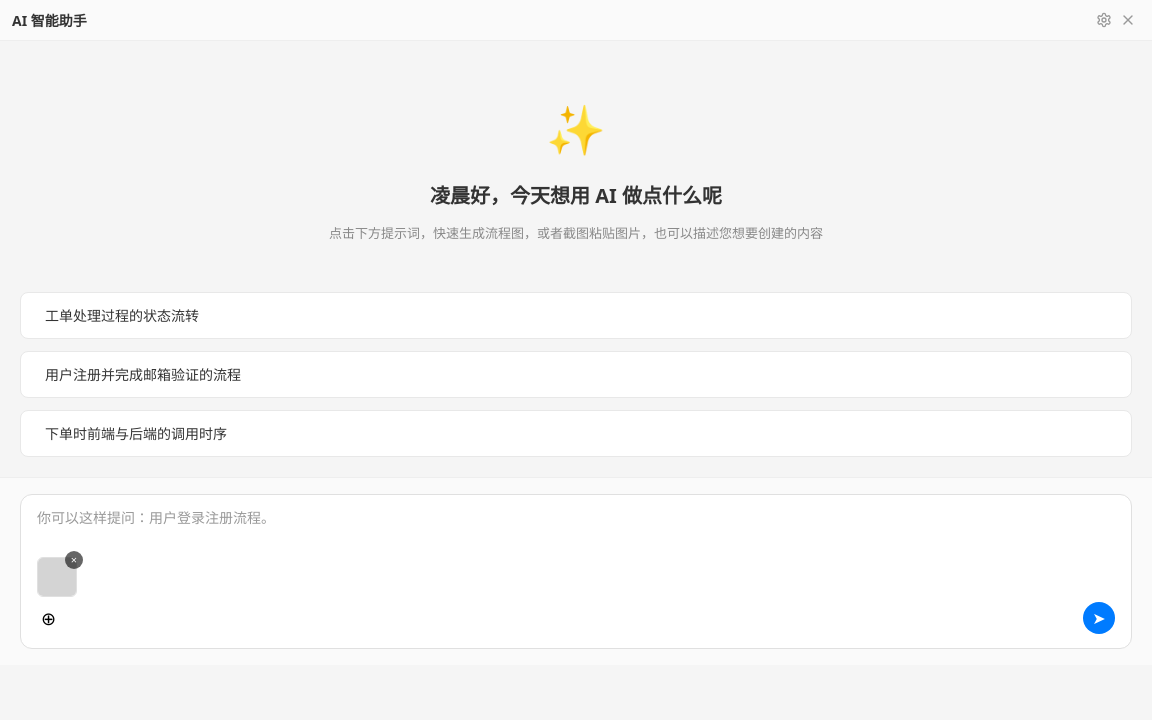
Test case: AIChatPanel 落图归位（居中 + 扩页） › 内容超出页面时自动扩页
Click the button named "发送" at (1099, 618), box left=1083, top=602, right=1115, bottom=634
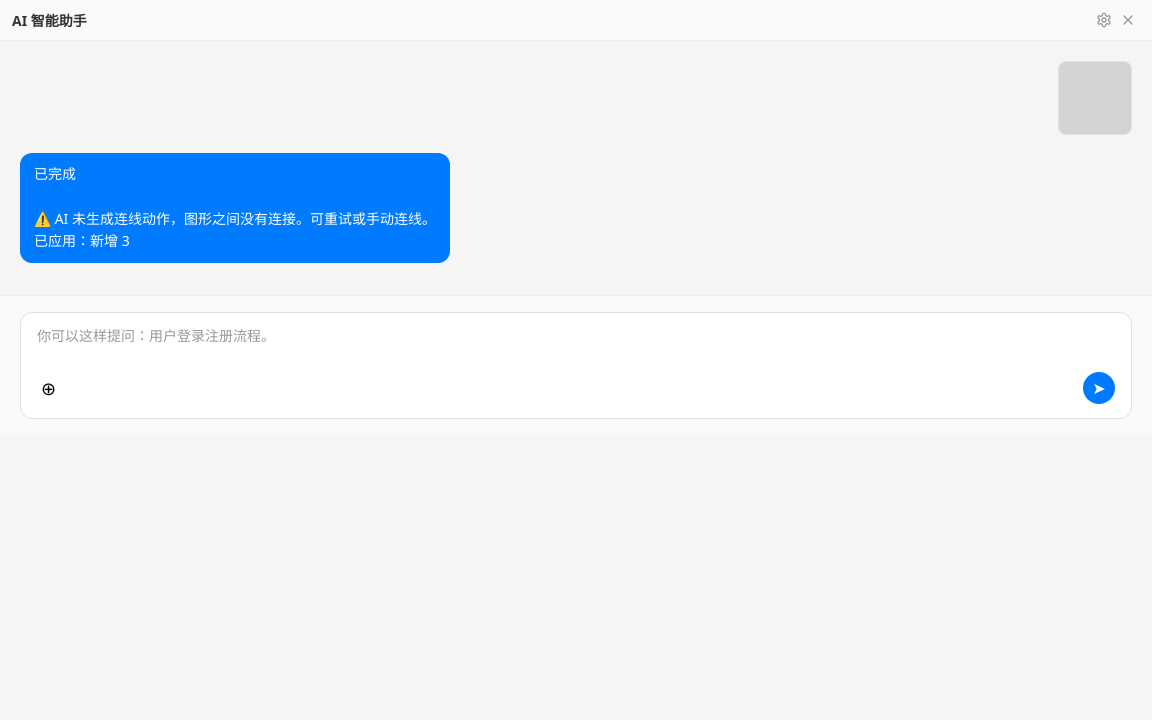
Result: the text "已完成 ⚠ AI 未生成连线动作，图形之间没有连接。可重试或手动连线。 已应用：新增 3" is shown at left=20, top=153, right=450, bottom=263
